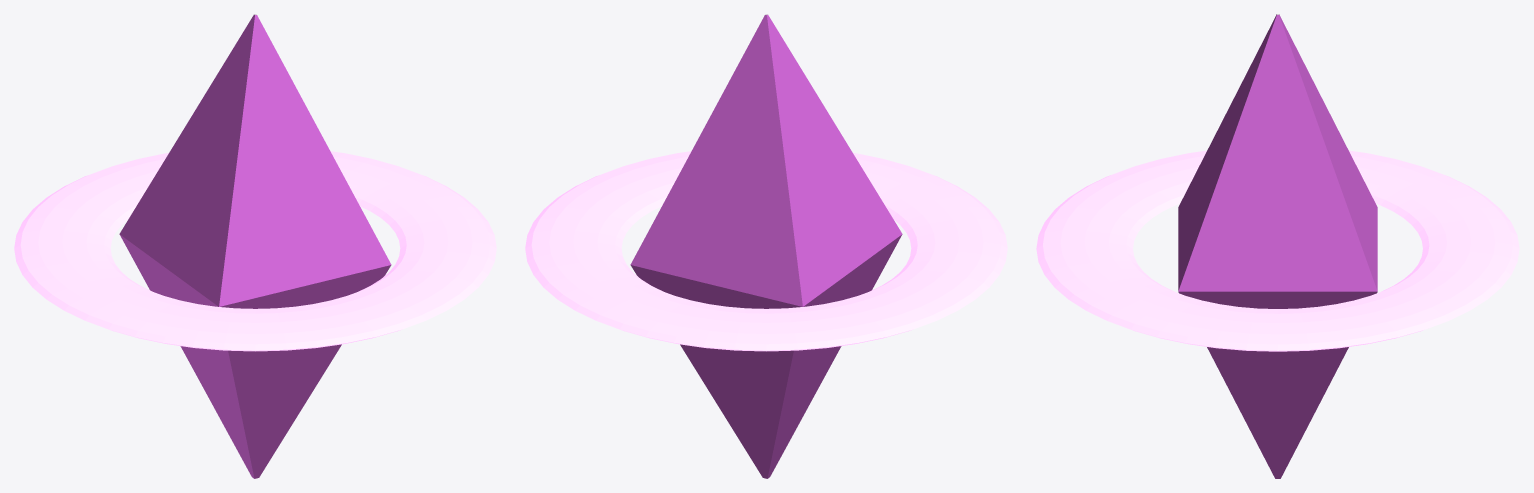
File: florentine.fbx
3 renders of one model, left to right at view 1: azimuth 30°, elevation 25°; view 2: azimuth 150°, elevation 25°; view 3: azimuth 270°, elevation 25°, orthographic.
Parts seen in each view (by area): view 1: Cube.001, Torus; view 2: Cube.001, Torus; view 3: Cube.001, Torus.
Boxes of the visible parts, left/top/right/bottom form: Cube.001: left=119, top=14, right=391, bottom=478; Torus: left=14, top=151, right=496, bottom=351; Cube.001: left=630, top=14, right=902, bottom=478; Torus: left=525, top=151, right=1007, bottom=351; Cube.001: left=1178, top=14, right=1377, bottom=478; Torus: left=1036, top=150, right=1519, bottom=351.
Bounding box in the file's own units: 484 × 513 × 484.
